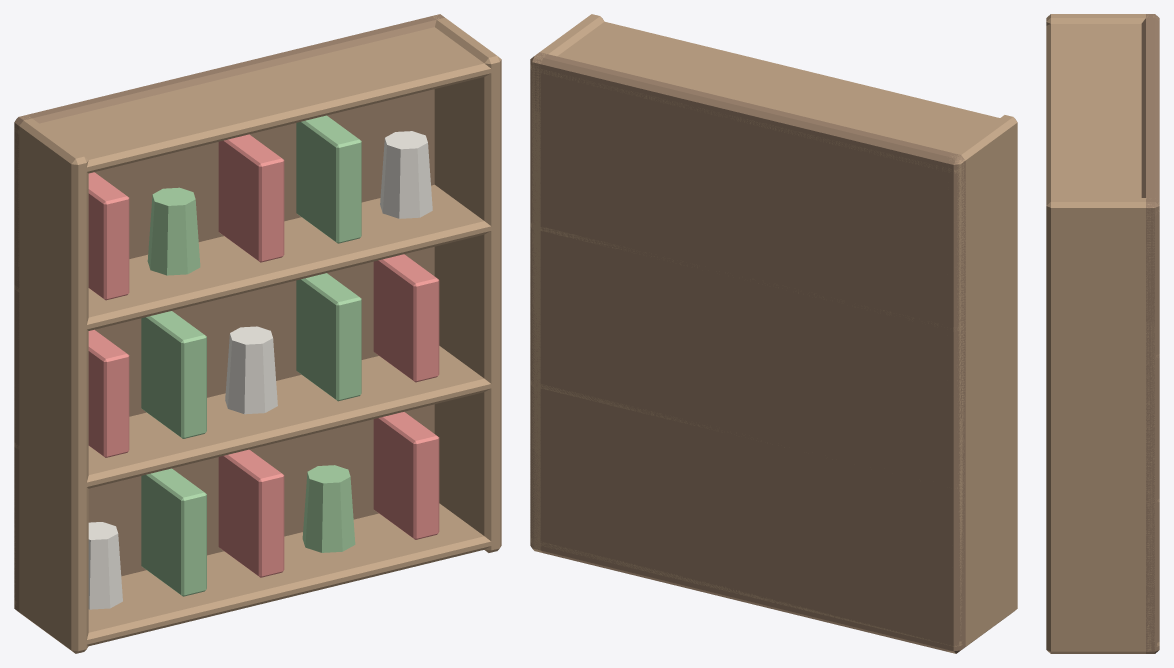
The model's file is prop_shelf.glb.
3 renders of one model, left to right at view 1: azimuth 30°, elevation 25°; view 2: azimuth 150°, elevation 25°; view 3: azimuth 270°, elevation 25°, orthographic. The views are drawn at different scales.
Visible parts, largest first — view 1: prop_shelf; view 2: prop_shelf; view 3: prop_shelf.
Boxes of the visible parts, box(x1,y1,x2,y2) form: prop_shelf: box(14, 14, 501, 653); prop_shelf: box(530, 14, 1017, 653); prop_shelf: box(1046, 14, 1159, 653).
Bounding box in the file's own units: 2 × 2.2 × 0.5.
